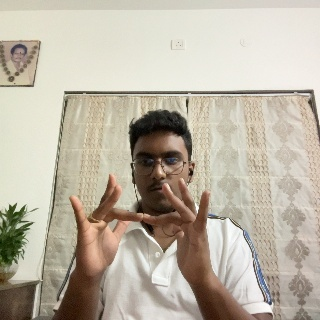Internet: (71, 174, 219, 282)
